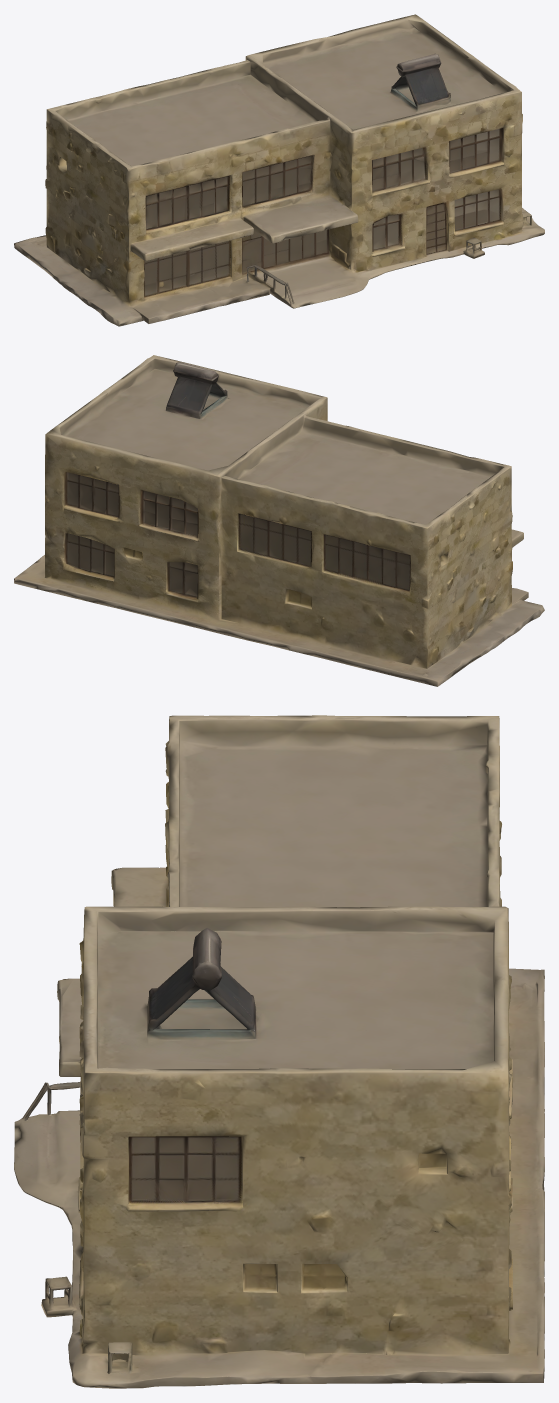
The model's file is school-source.glb.
The picture shows the model from 3 angles, top to bottom: view 1: azimuth 30°, elevation 25°; view 2: azimuth 150°, elevation 25°; view 3: azimuth 270°, elevation 25°; orthographic projection. The views are drawn at different scales.
Parts seen in each view (by area): view 1: tripo_node_3ae01b3f-deef-4bc5-8574-550179160413; view 2: tripo_node_3ae01b3f-deef-4bc5-8574-550179160413; view 3: tripo_node_3ae01b3f-deef-4bc5-8574-550179160413.
Part boxes in pixels (<box>): tripo_node_3ae01b3f-deef-4bc5-8574-550179160413: <box>14,14,544,326</box>; tripo_node_3ae01b3f-deef-4bc5-8574-550179160413: <box>14,355,544,686</box>; tripo_node_3ae01b3f-deef-4bc5-8574-550179160413: <box>14,715,544,1388</box>.
Bounding box in the file's own units: 1 × 0.3987 × 0.546.
1 material, 1 textured.
